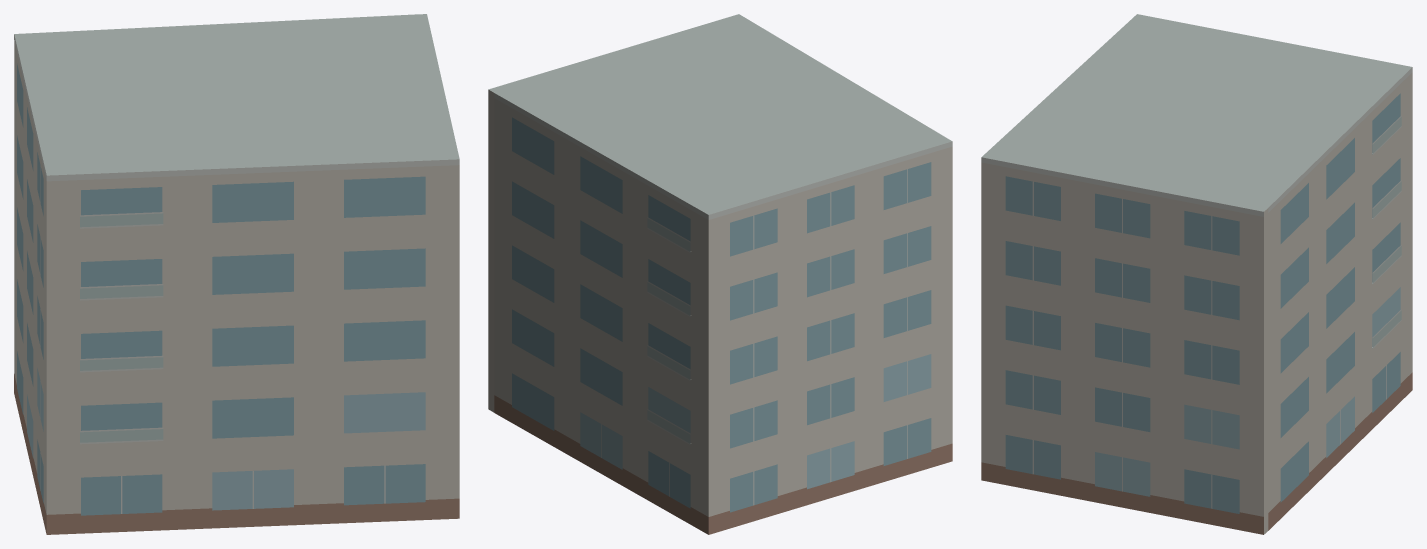
Rendered from survey-upis-33046882.glb.
3 renders of one model, left to right at view 1: azimuth 30°, elevation 25°; view 2: azimuth 150°, elevation 25°; view 3: azimuth 270°, elevation 25°, orthographic. The views are drawn at different scales.
Visible parts, largest first — view 1: survey-upis-33046882.tmp; view 2: survey-upis-33046882.tmp; view 3: survey-upis-33046882.tmp.
Part boxes in pixels (bbox=[...]): survey-upis-33046882.tmp: bbox=[14, 14, 459, 534]; survey-upis-33046882.tmp: bbox=[488, 14, 952, 534]; survey-upis-33046882.tmp: bbox=[981, 14, 1412, 534].
Size of the model in its own units: 20.03 by 15.25 by 18.46.
